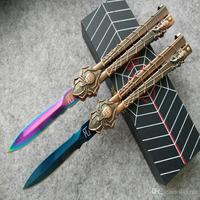knife: (4, 10, 186, 192)
